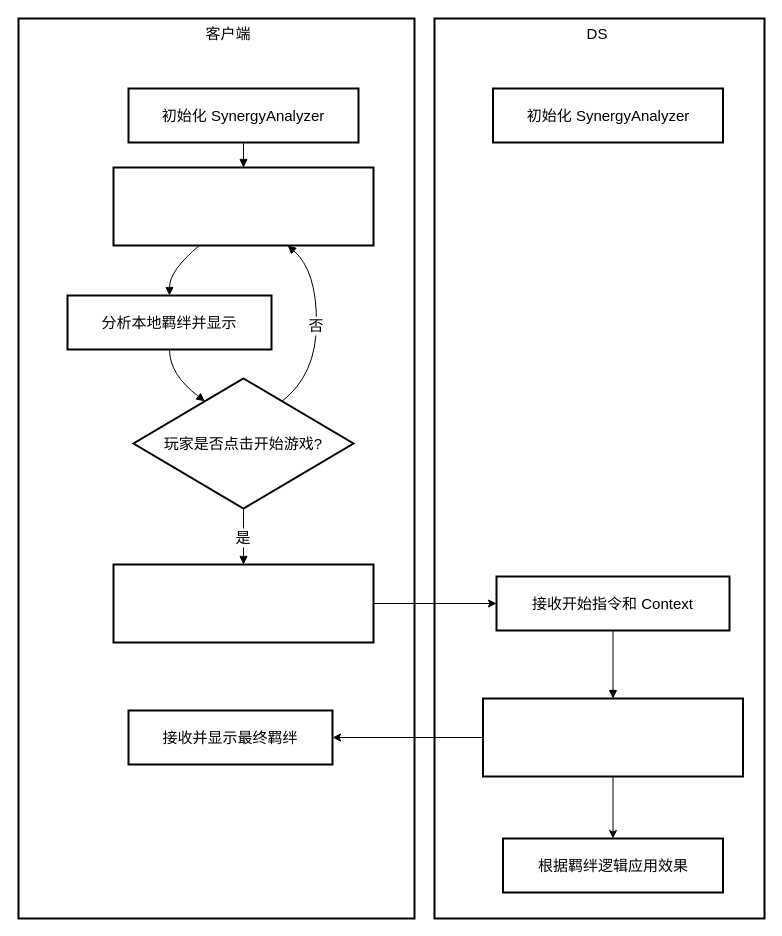
The diagram is 782 pixels wide and 936 high, and some of its shapes have lost their labels. Each missing label, with the centre of its shape:
分析羁绊，生成 SynergyInstance Array，同步到客户端: point (613, 737)
发送开始指令和 Context 到服务端: point (243, 603)
玩家修改阵营和 SynergyContext: point (243, 206)
